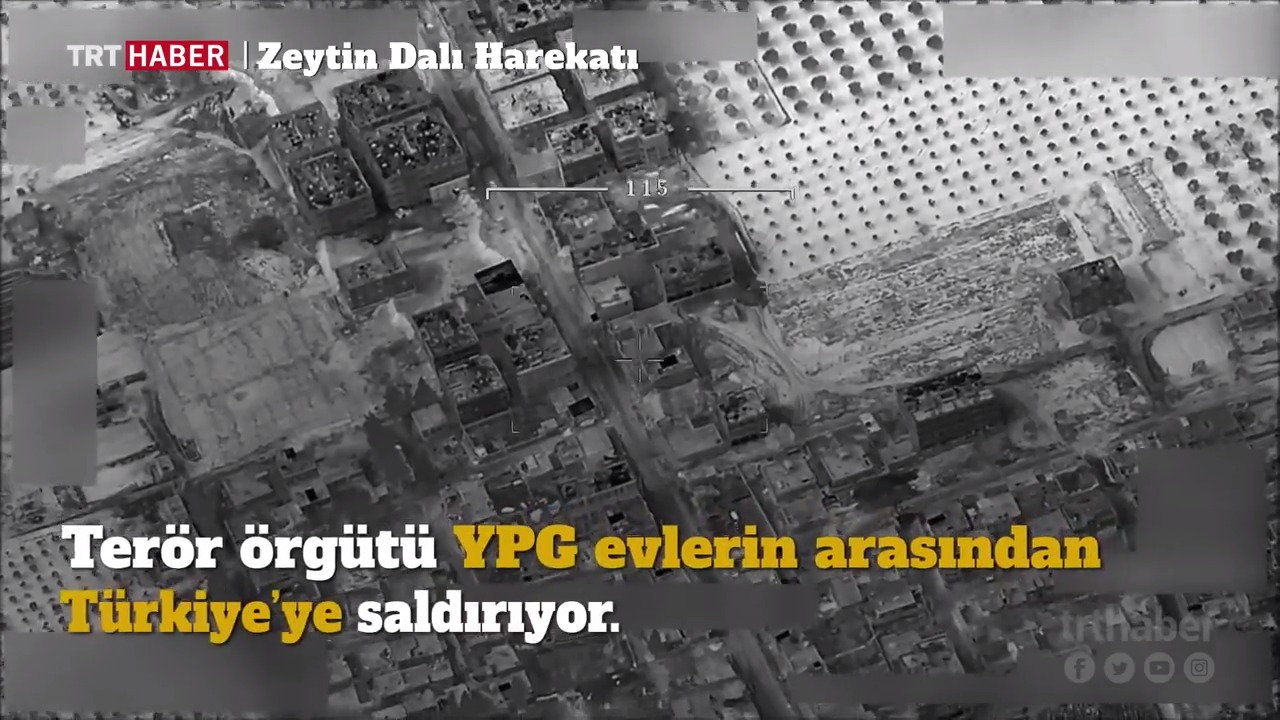bina: (898, 352, 1018, 453), (369, 107, 468, 202), (275, 159, 375, 232), (652, 222, 735, 299), (1051, 259, 1149, 322), (818, 409, 896, 488), (333, 236, 416, 310), (475, 247, 545, 330), (551, 177, 622, 257), (601, 87, 676, 160), (495, 72, 567, 142), (438, 349, 505, 423), (417, 288, 468, 364), (507, 323, 575, 379), (257, 109, 335, 157), (551, 114, 601, 177), (721, 385, 775, 440), (401, 393, 448, 446)
